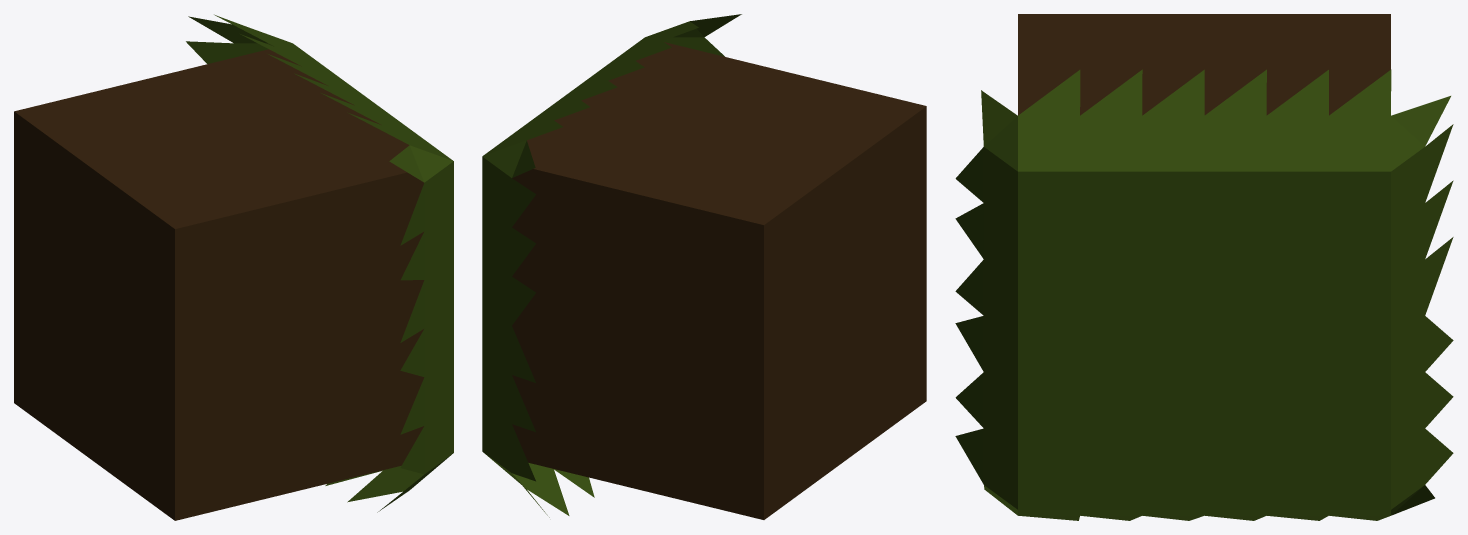
Rendered from Tile_Grass_Tree.fbx.
3 views of the same model, side by side, from view 1: azimuth 30°, elevation 25°; view 2: azimuth 150°, elevation 25°; view 3: azimuth 270°, elevation 25° (orthographic). The views are drawn at different scales.
Visible parts, largest first — view 1: block; view 2: block; view 3: block.
Boxes of the visible parts, left/top/right/bottom form: block: left=14, top=14, right=453, bottom=520; block: left=482, top=14, right=926, bottom=519; block: left=955, top=14, right=1453, bottom=520.
Bounding box in the file's own units: 39.37 × 52.58 × 52.58.
